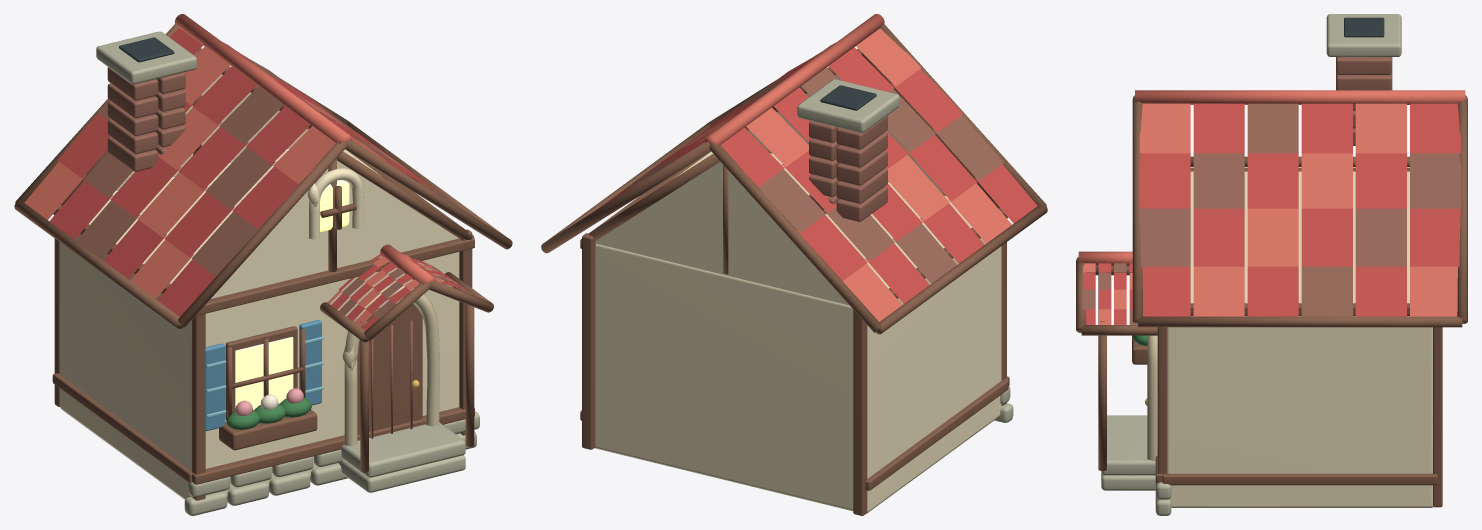
The model's file is fairytale-cottage-sample.glb.
3 views of the same model, side by side, from view 1: azimuth 30°, elevation 25°; view 2: azimuth 150°, elevation 25°; view 3: azimuth 270°, elevation 25° (orthographic).
Visible parts, largest first — view 1: cottage-sample; view 2: cottage-sample; view 3: cottage-sample.
Boxes of the visible parts, x1,y1,x2,y2 form: cottage-sample: [14, 14, 512, 515]; cottage-sample: [541, 14, 1047, 515]; cottage-sample: [1076, 14, 1467, 515].
Size of the model in its own units: 3.96 by 4.27 by 3.99.
